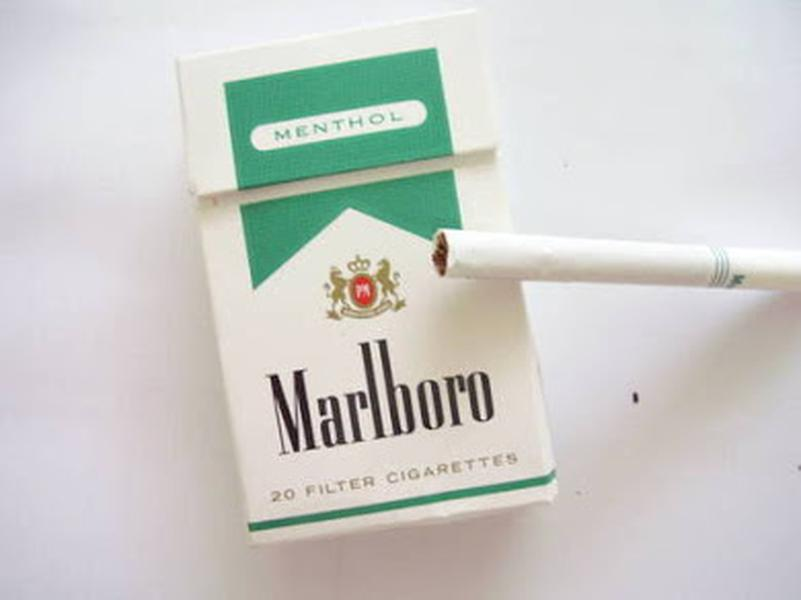marlboro_mentol: (219, 45, 521, 491)
